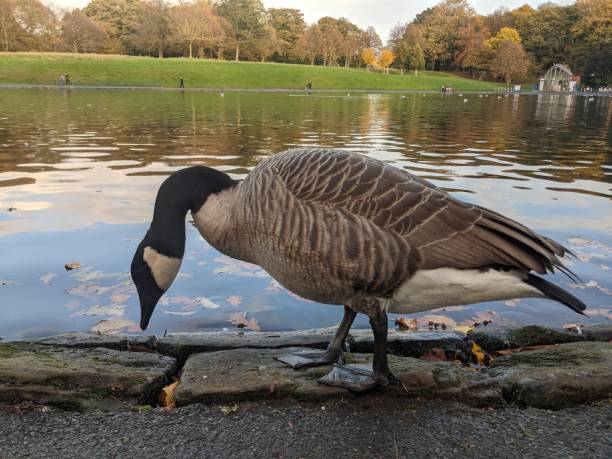goose: (122, 139, 595, 396)
